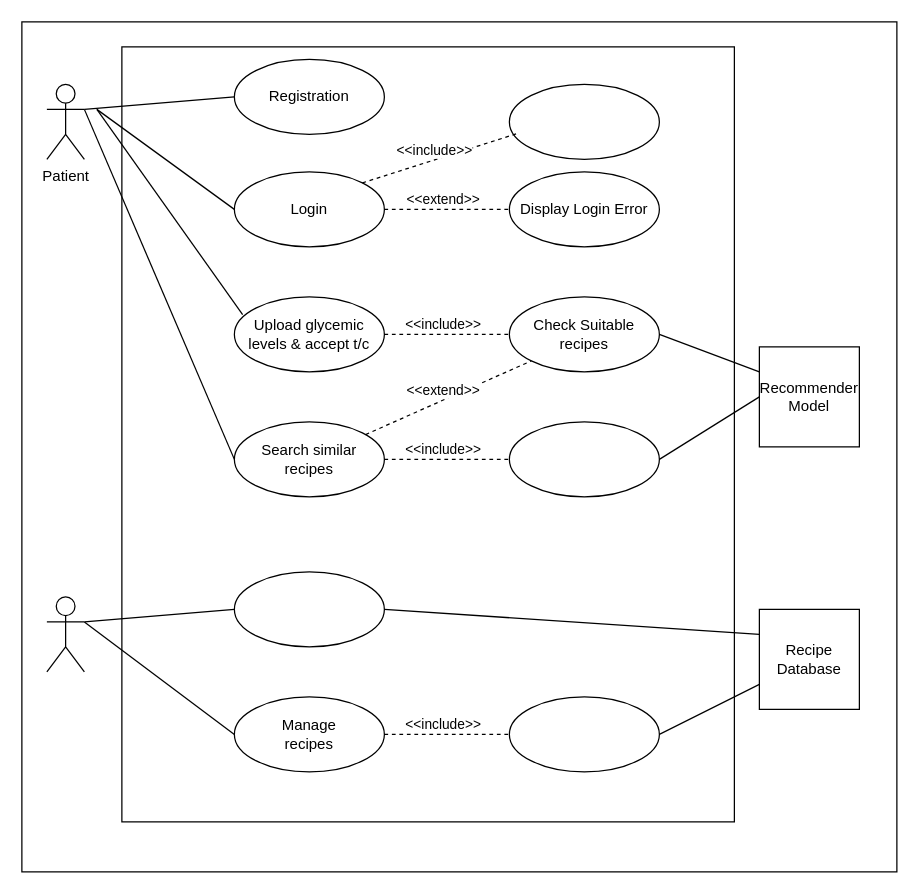
Some shapes in this 919 by 894 pixel diagram are drawn without their labels. Here are the shapes that lost their labels. From the top down, the centre of each, then its label:
At pixel 583 121: "Verify Login".
At pixel 583 459: "Display food".
At pixel 308 609: "Manage users".
At pixel 65 634: "Admin".
At pixel 583 734: "Update Recipes".
